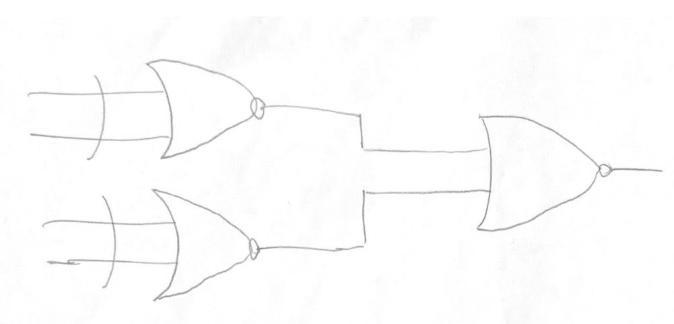NOR: (474, 104, 630, 234)
XNOR: (70, 57, 290, 171), (87, 187, 279, 310)
